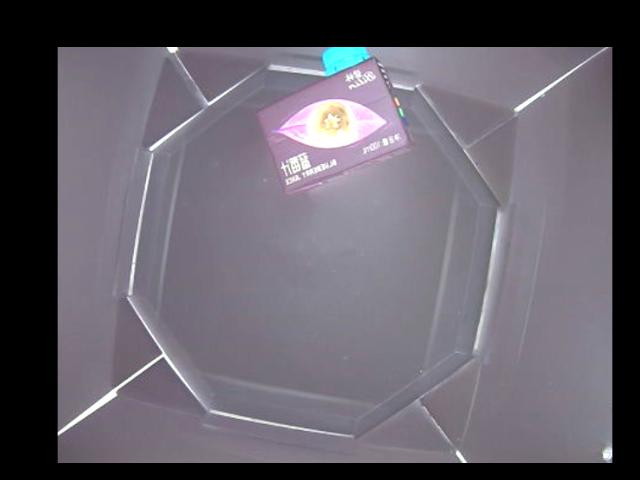Bottle: (256, 47, 409, 196)
